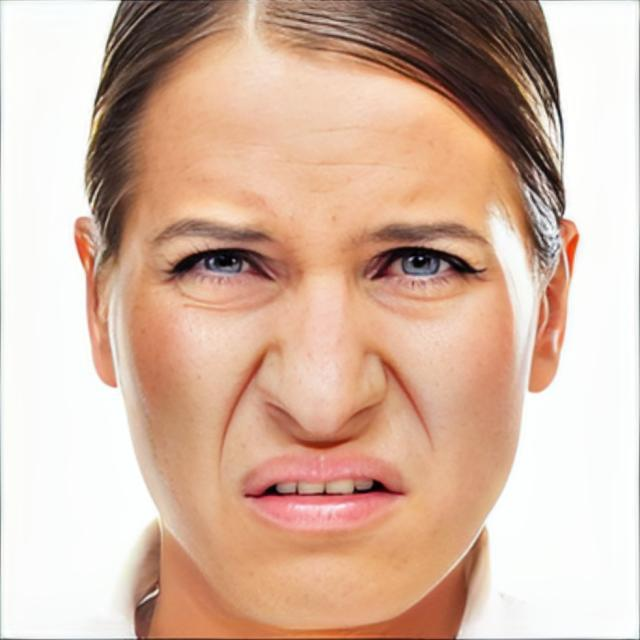disgust: (104, 33, 538, 633)
